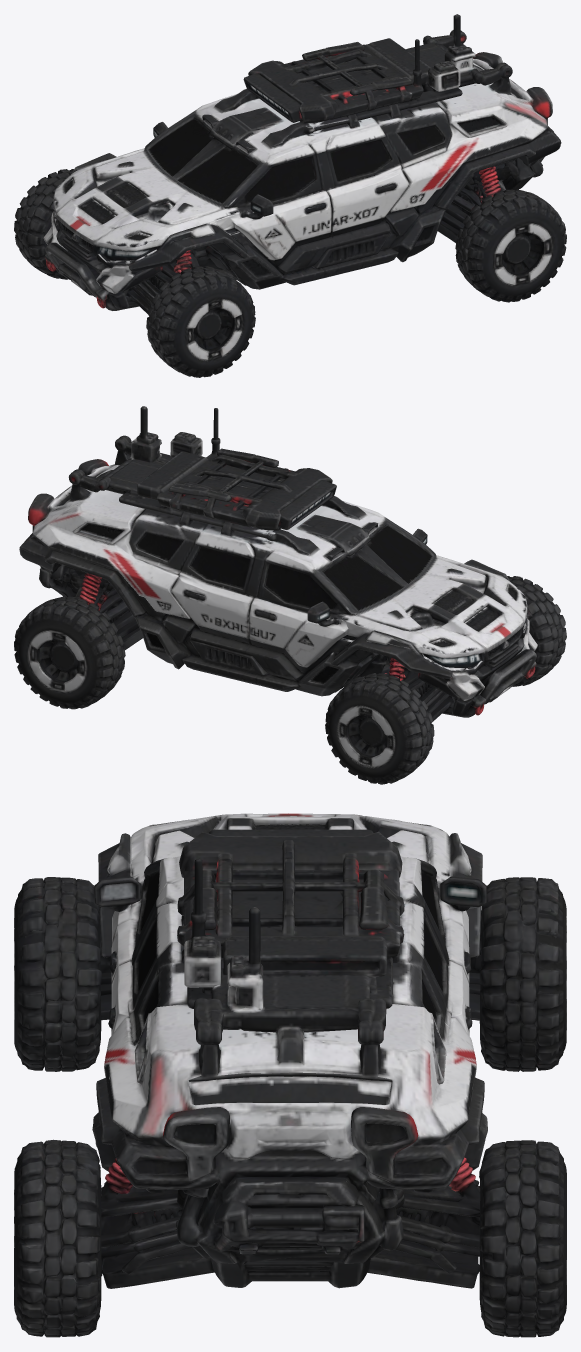
Rendered from moon_rover.glb.
3 renders of one model, top to bottom at view 1: azimuth 30°, elevation 25°; view 2: azimuth 150°, elevation 25°; view 3: azimuth 270°, elevation 25°, orthographic. The views are drawn at different scales.
Visible parts, largest first — view 1: frame; view 2: frame; view 3: frame.
Part boxes in pixels (left/top/right/bottom): frame: left=14, top=14, right=566, bottom=377; frame: left=14, top=406, right=566, bottom=784; frame: left=14, top=813, right=566, bottom=1337.
Bounding box in the file's own units: 4.75 × 2.3 × 2.73.
Materials: 1 (1 with a texture image).
